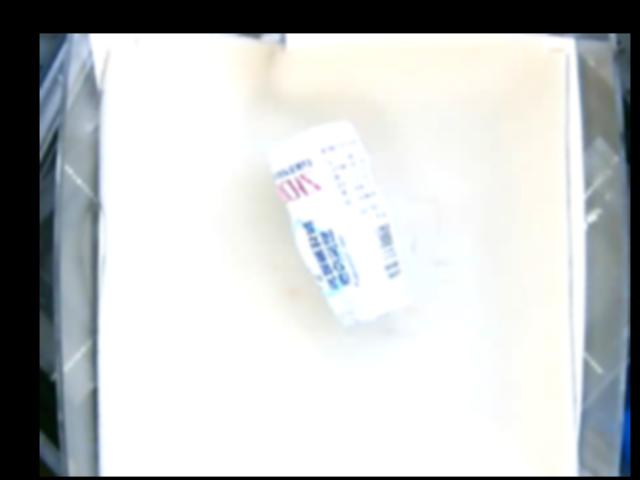Bottle: (268, 117, 412, 327)
